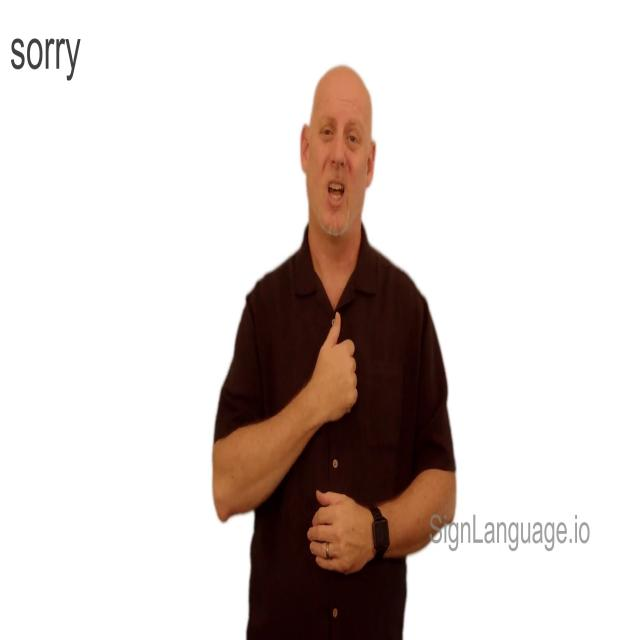sorry: (312, 313, 360, 425)
